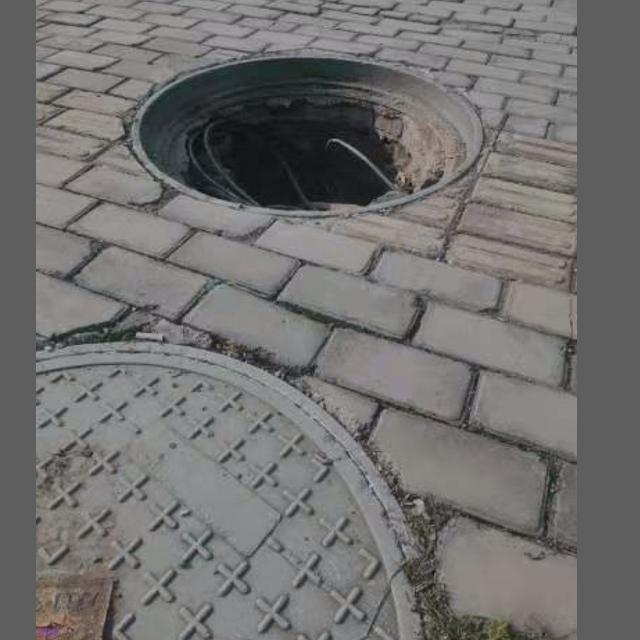lose: (40, 339, 434, 640), (130, 51, 485, 219)
